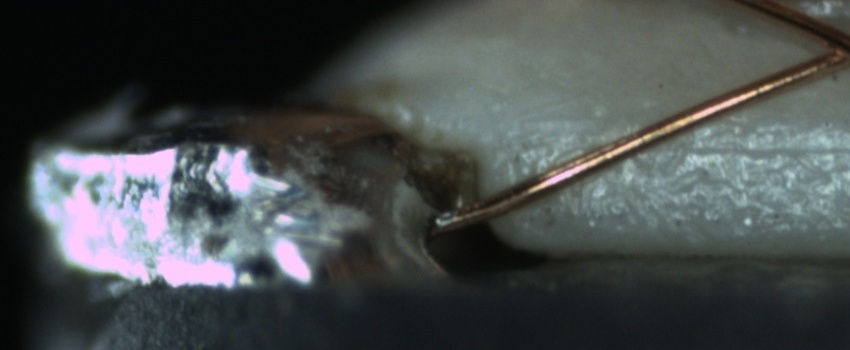CL: (799, 17, 850, 78)
DL: (548, 108, 850, 177)
